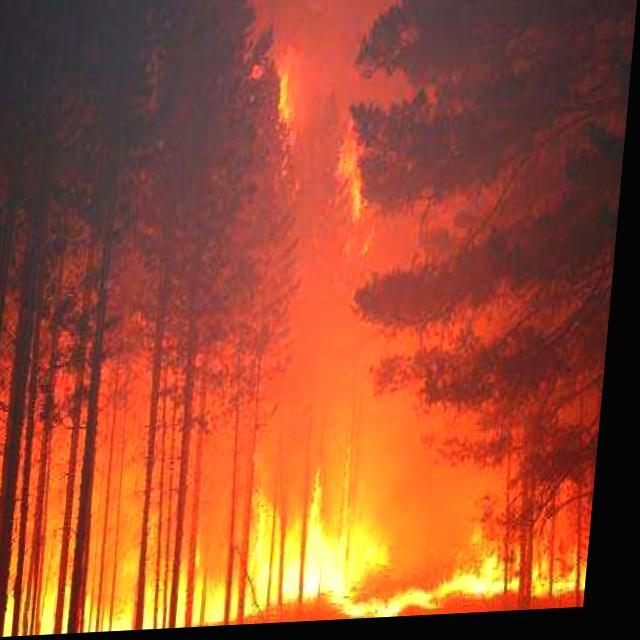Fire: (0, 492, 596, 632), (331, 108, 381, 236), (270, 52, 311, 137)
